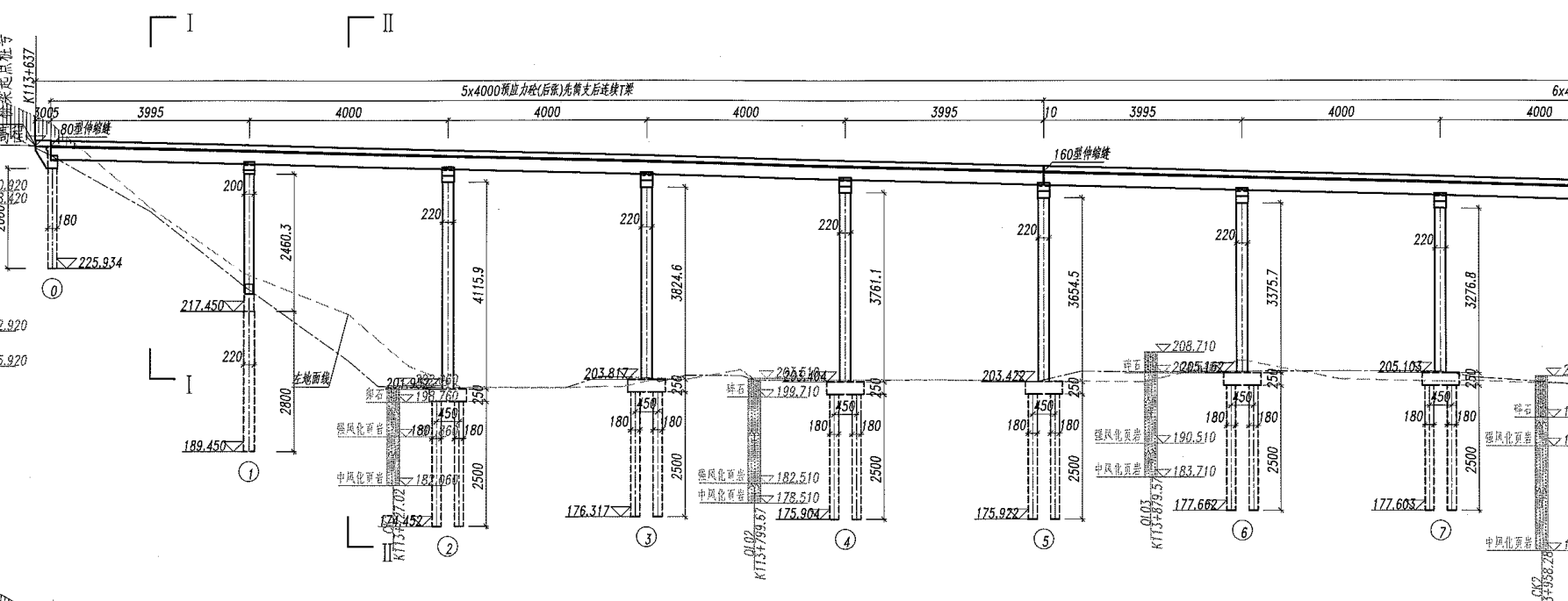B: (47, 83, 1061, 106)
C: (562, 168, 678, 557), (368, 159, 478, 568), (967, 177, 1079, 560), (770, 173, 877, 561), (1363, 185, 1473, 549), (1170, 181, 1275, 548), (168, 153, 275, 494)
